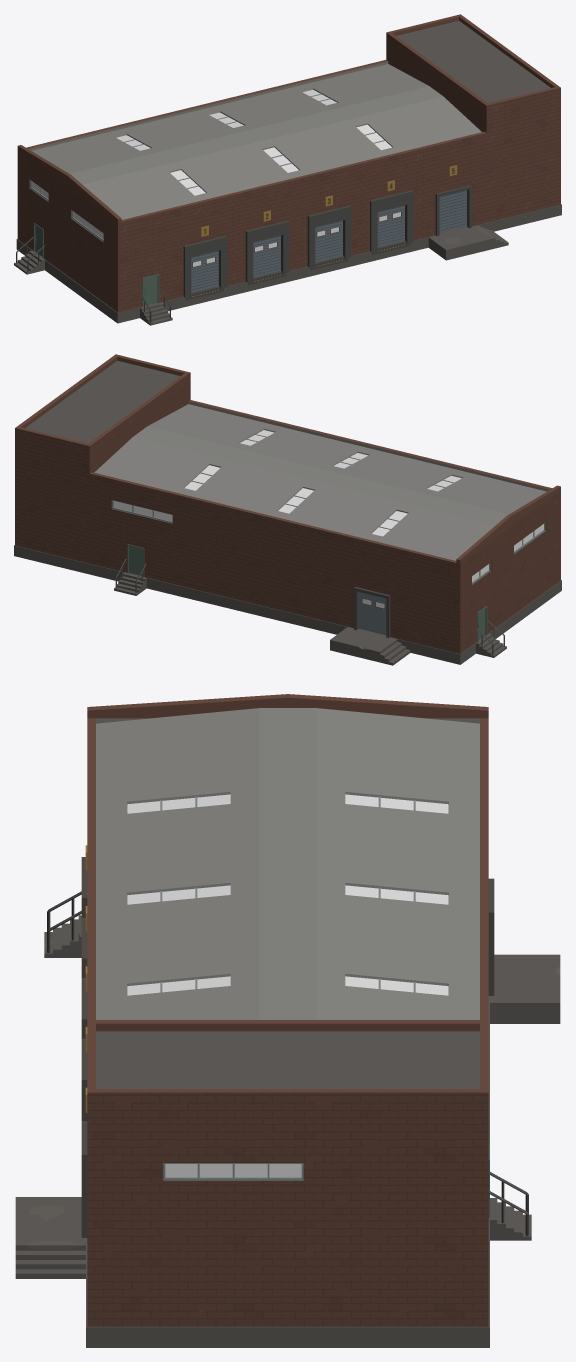
The model's file is SM_Bldg_City_Industrial_Warehouse_01.fbx.
The picture shows the model from 3 angles, top to bottom: view 1: azimuth 30°, elevation 25°; view 2: azimuth 150°, elevation 25°; view 3: azimuth 270°, elevation 25°; orthographic projection. The views are drawn at different scales.
Visible parts, largest first — view 1: SM_Bldg_City_Industrial_Warehouse_01; view 2: SM_Bldg_City_Industrial_Warehouse_01; view 3: SM_Bldg_City_Industrial_Warehouse_01.
Boxes of the visible parts, x1,y1,x2,y2 form: SM_Bldg_City_Industrial_Warehouse_01: (14,14,561,325); SM_Bldg_City_Industrial_Warehouse_01: (14,354,561,665); SM_Bldg_City_Industrial_Warehouse_01: (15,694,560,1347).
Bounding box in the file's own units: 3725 × 980 × 1900.
